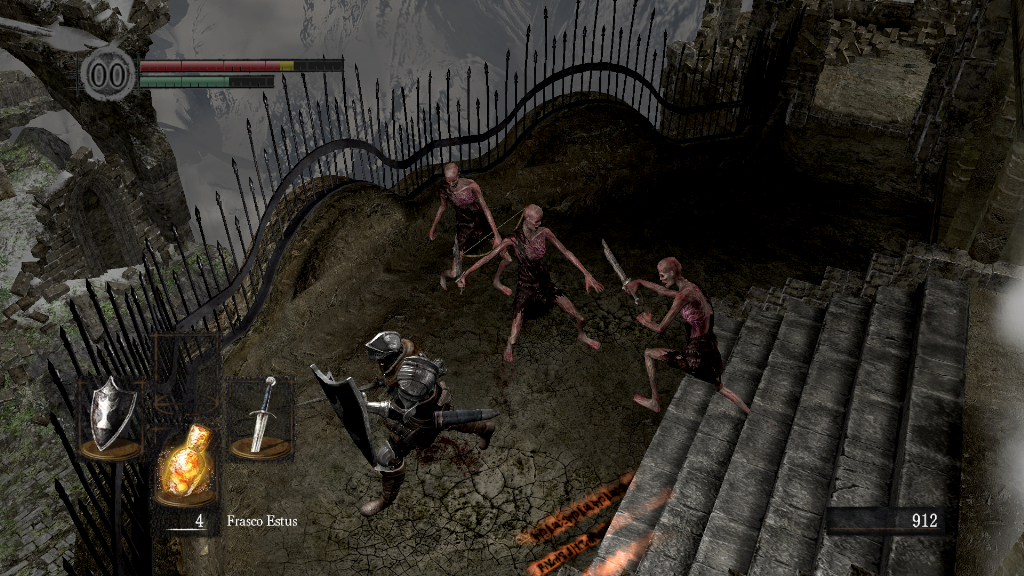health: (138, 58, 343, 71)
hollow: (453, 202, 606, 360), (625, 257, 751, 421), (430, 158, 515, 301)
humanity: (80, 45, 136, 102)
player: (292, 331, 498, 519)
souls: (825, 506, 945, 536)
stamina: (138, 74, 274, 88)
